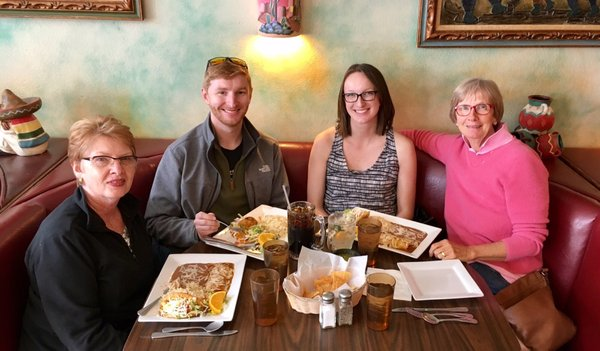pizza: (286, 200, 318, 273), (365, 272, 396, 331), (251, 269, 281, 326), (288, 201, 316, 255), (263, 241, 289, 285), (357, 217, 382, 256), (346, 254, 369, 296)
